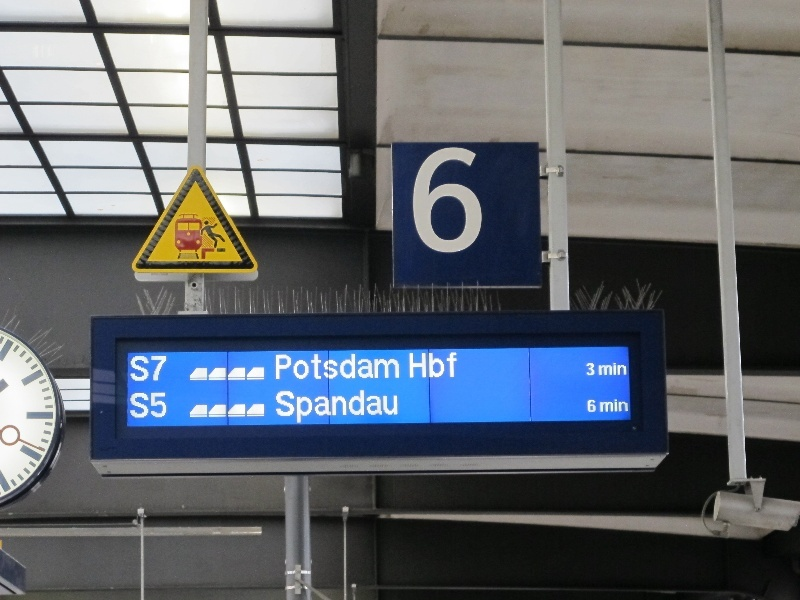text: (417, 145, 432, 255), (433, 145, 448, 255), (449, 145, 464, 255), (465, 145, 480, 255), (289, 390, 304, 424), (305, 390, 320, 424), (321, 390, 336, 424), (337, 390, 352, 424), (353, 390, 368, 424), (369, 390, 384, 424), (385, 390, 399, 424), (276, 390, 288, 424), (145, 392, 160, 419), (289, 354, 304, 380), (305, 354, 320, 380), (321, 354, 336, 380), (337, 354, 352, 380), (353, 354, 368, 380), (369, 354, 384, 380), (385, 354, 400, 380), (417, 352, 432, 378), (433, 352, 448, 378), (145, 356, 160, 382), (131, 392, 144, 419), (131, 356, 144, 382), (413, 145, 416, 255), (276, 354, 288, 380), (449, 352, 459, 378), (609, 399, 624, 413), (161, 356, 169, 382), (609, 363, 624, 376), (161, 392, 167, 419), (410, 352, 416, 378), (599, 363, 608, 376), (600, 399, 608, 413), (481, 145, 482, 255), (586, 363, 592, 377), (587, 400, 592, 413), (625, 399, 628, 413), (593, 400, 596, 413), (593, 363, 595, 377), (625, 363, 627, 376)
